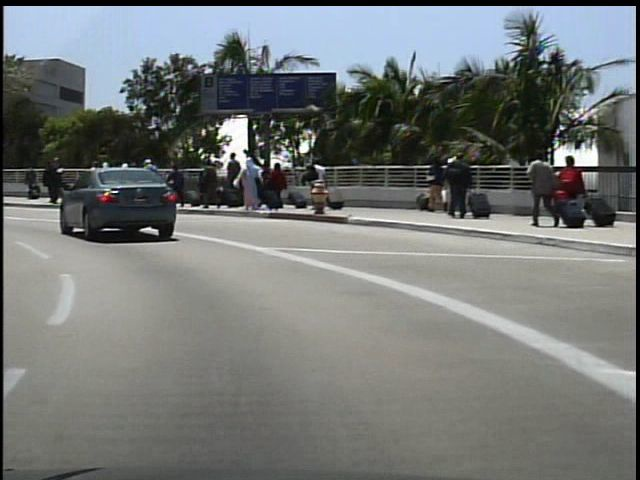person: (522, 149, 555, 227), (555, 150, 586, 226), (439, 151, 469, 219), (304, 154, 330, 205), (43, 153, 66, 206), (40, 155, 63, 207), (21, 161, 40, 202)
